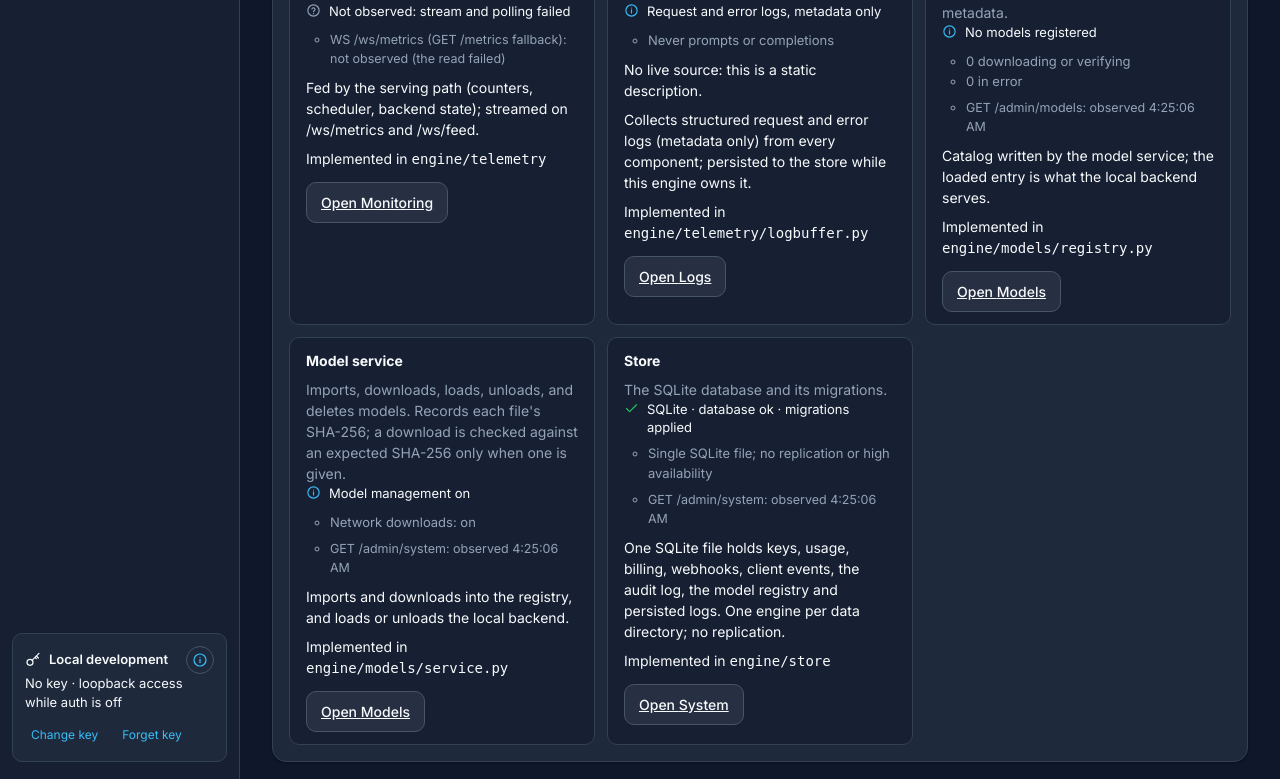
Test: Architecture across session changes › drops the old session's late read after the key is forgotten
(page scrolled)
Click the button "Forget key": (152, 735) 116,721 -> 188,749
(page scrolled)
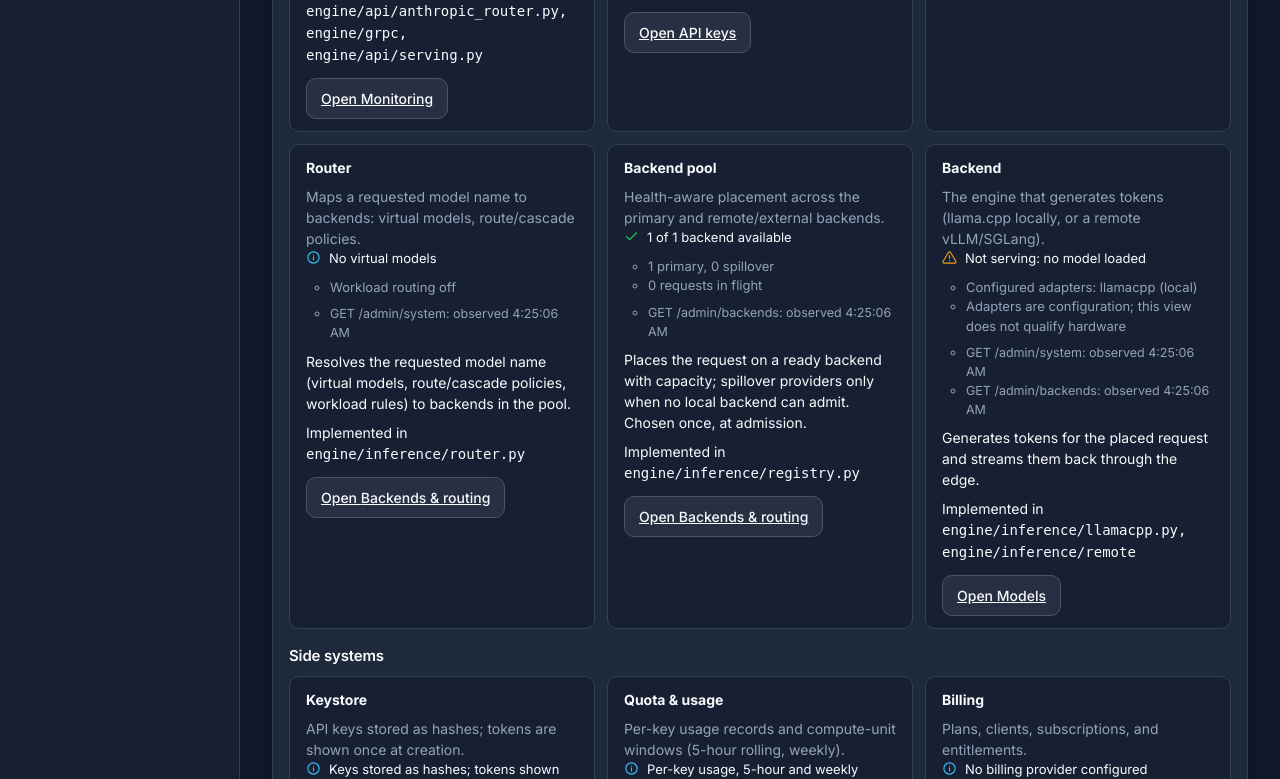
expect the list item "Backend pool" does not show "3 of 3": met, box 607,144 -> 913,629
expect the list item "Backend pool" shows "1 of 1 backend available": met, box 647,229 -> 792,245
